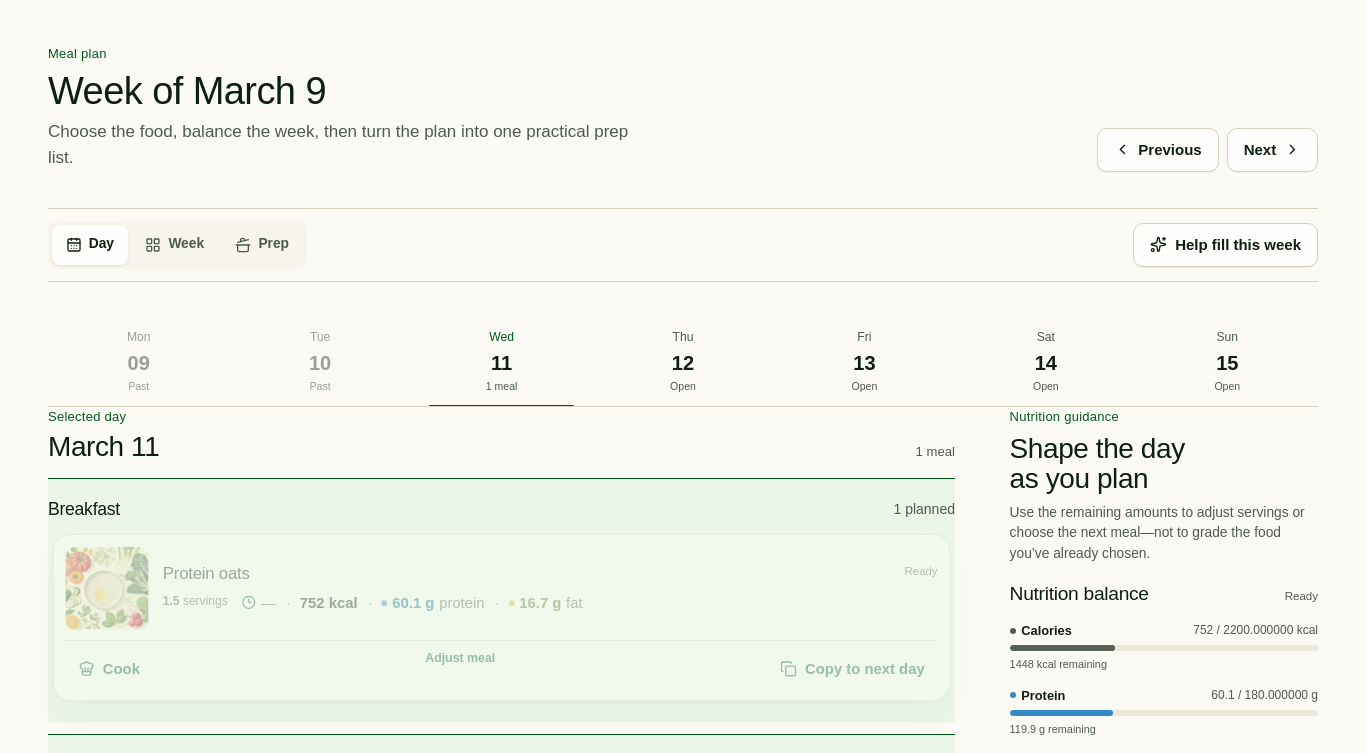
goal and weekly planning UI › keeps stale recipes out of planning selectors until recalculated
Click the tab "Day": click(90, 245) [52,225,128,265]
(page scrolled)
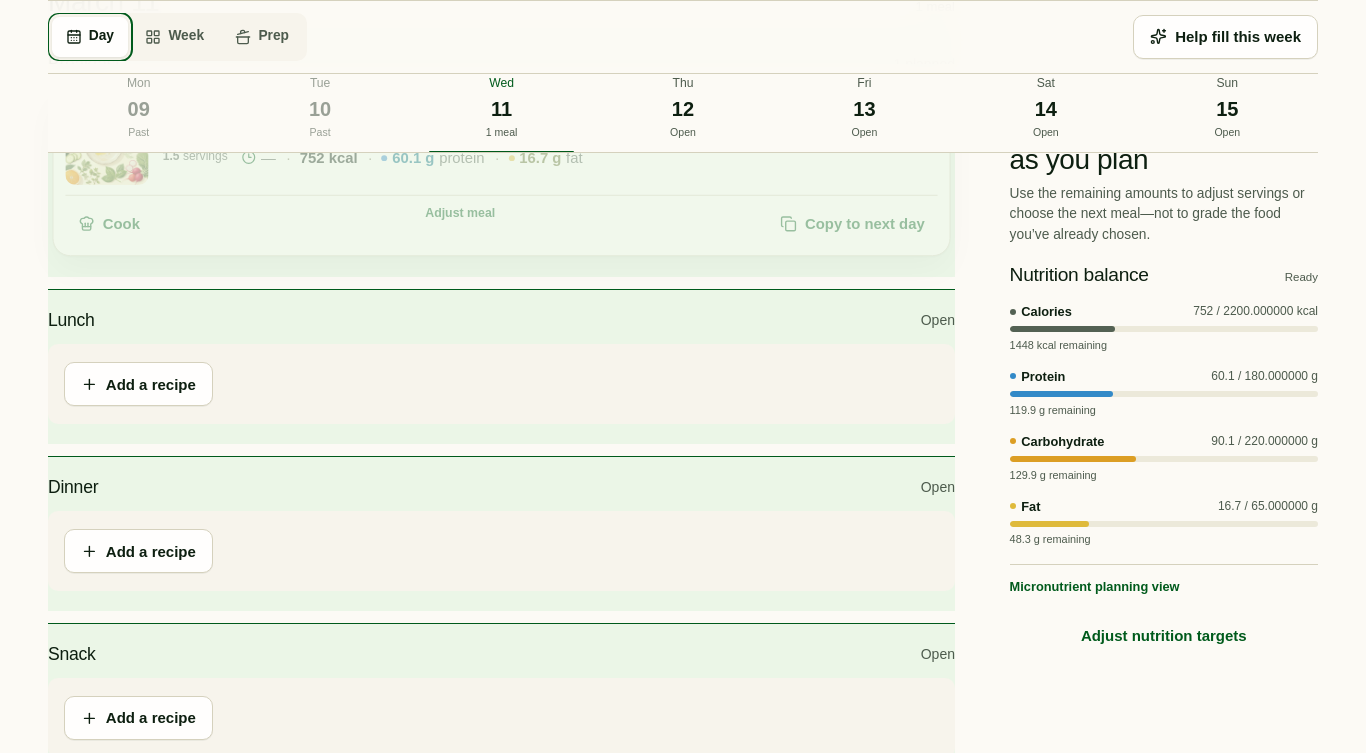
Click the button with aria-label "Add a recipe to Lunch": click(138, 384) [64,362,213,406]
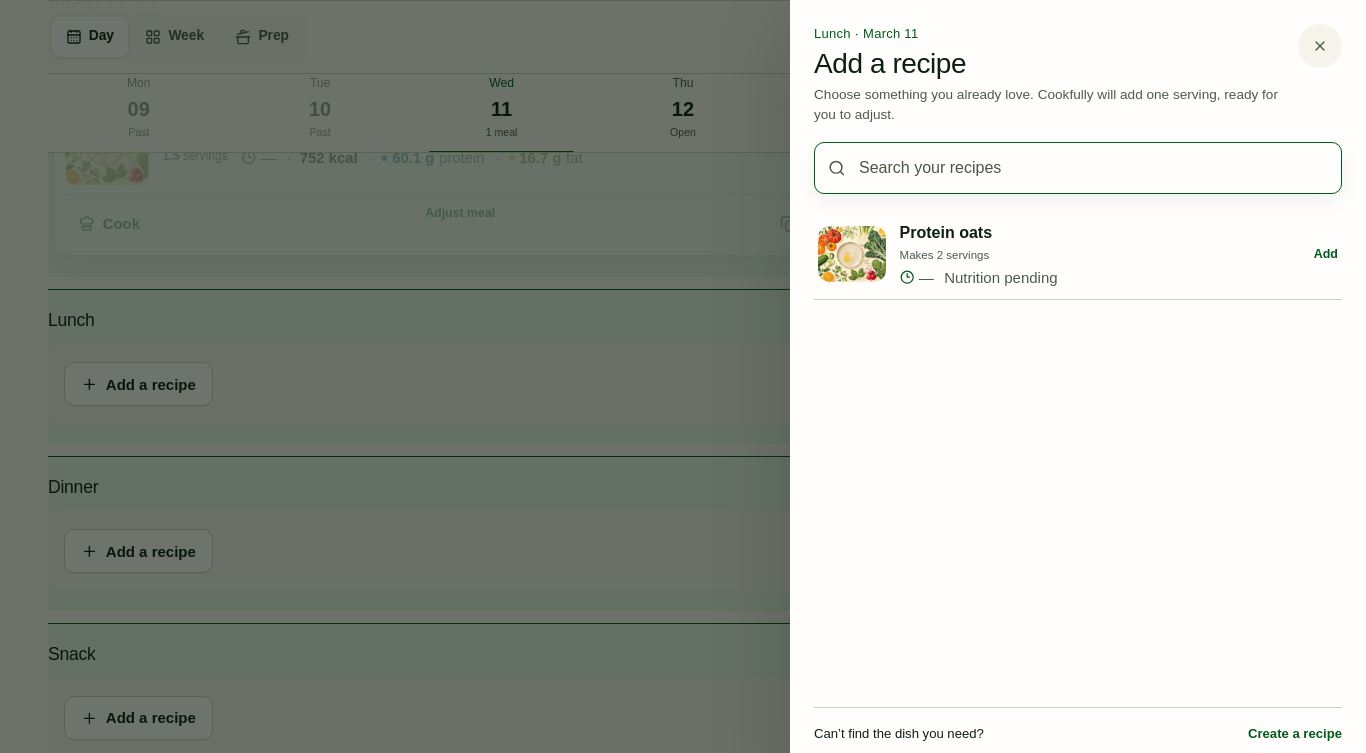
Check: the button with aria-label "Add Protein oats to Lunch" is shown, box [814,210,1342,300]
